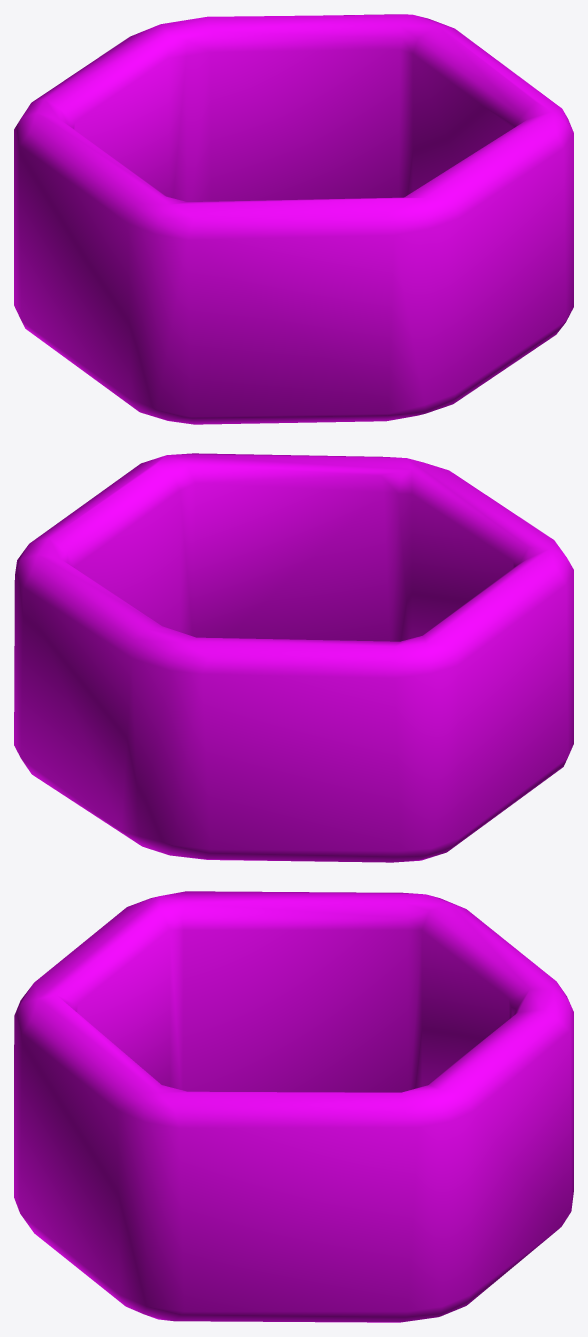
File: Particle-22.dae
3 views of the same model, one above another, from view 1: azimuth 30°, elevation 25°; view 2: azimuth 150°, elevation 25°; view 3: azimuth 270°, elevation 25° (orthographic). The views are drawn at different scales.
Parts seen in each view (by area): view 1: Particle; view 2: Particle; view 3: Particle.
Boxes of the visible parts, <box> form: Particle: <box>14,14,573,424</box>; Particle: <box>14,453,573,862</box>; Particle: <box>14,891,573,1322</box>.
Bounding box in the file's own units: 0.1274 × 0.0602 × 0.1342.
